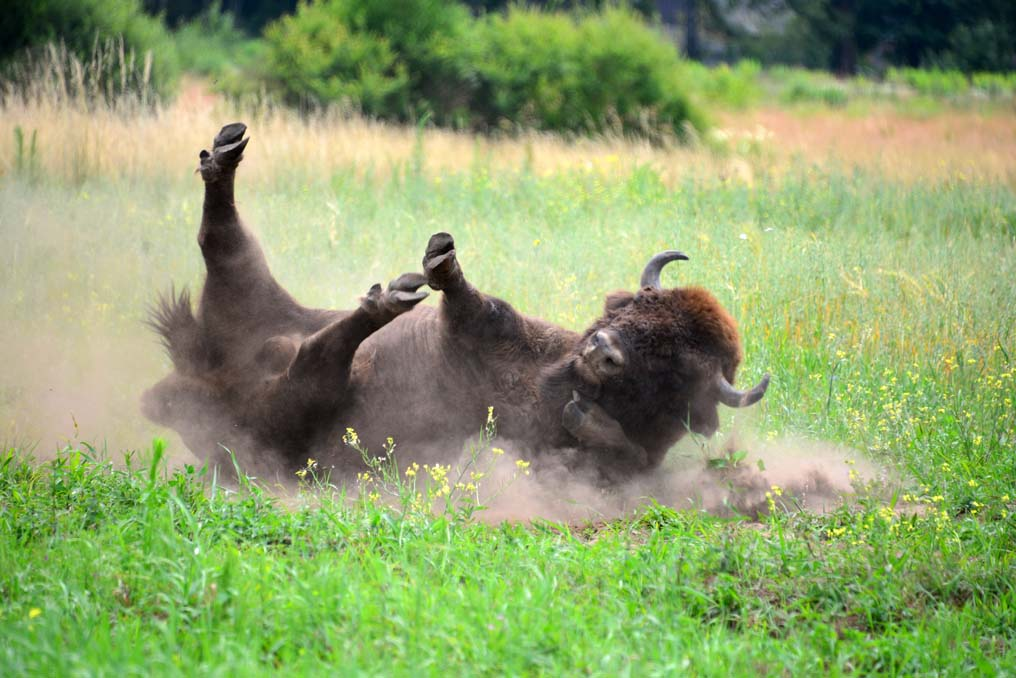zubr: (133, 90, 793, 526)
